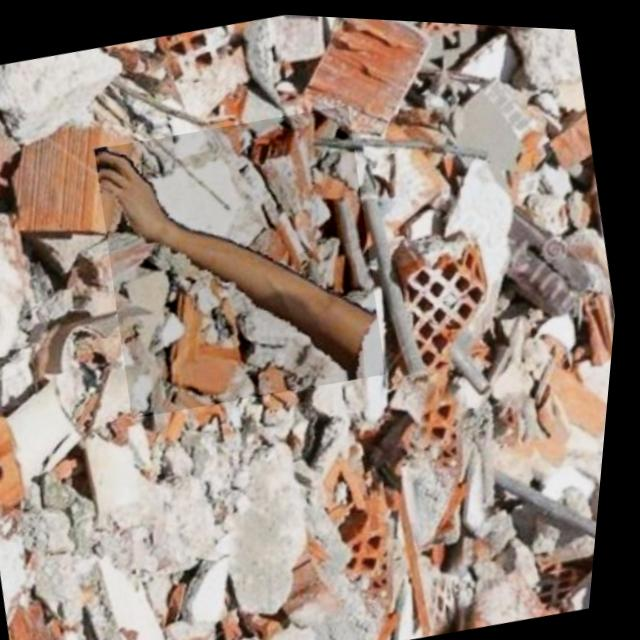Person in Rubble: (77, 91, 410, 426)
